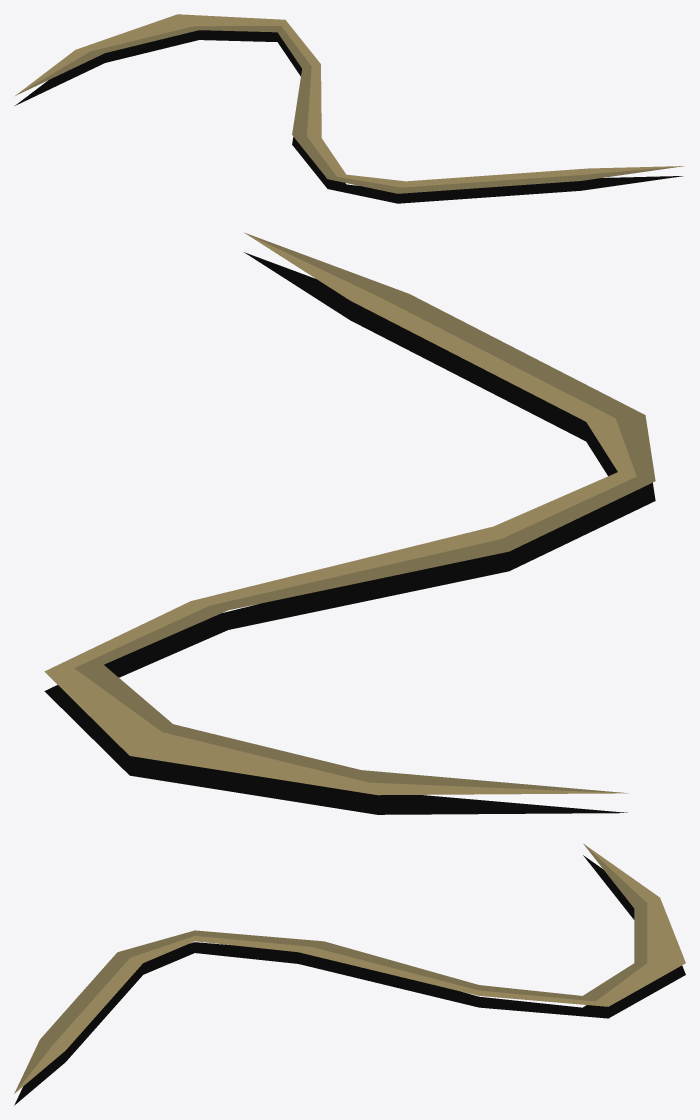
The model's file is inv_criminals_thread_3.obj.
3 views of the same model, one above another, from view 1: azimuth 30°, elevation 25°; view 2: azimuth 150°, elevation 25°; view 3: azimuth 270°, elevation 25° (orthographic). The views are drawn at different scales.
Size of the model in its own units: 0.3594 by 0.00781 by 0.4062.
